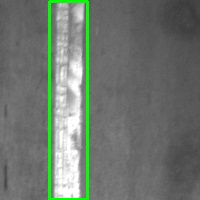scratches: (49, 1, 87, 199)
